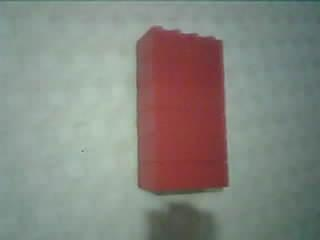lego: (135, 25, 230, 191)
